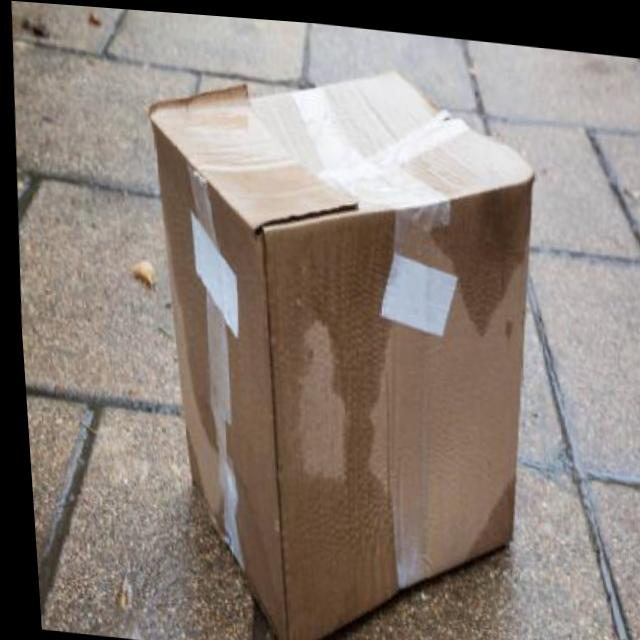box: (119, 38, 579, 640)
